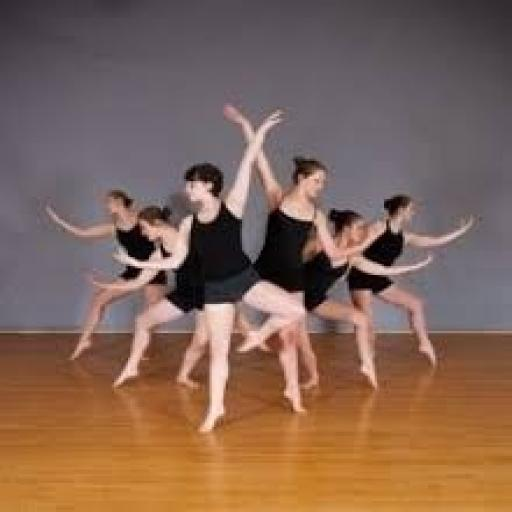dancing: (54, 118, 484, 512)
